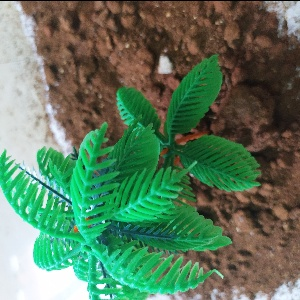plant: (1, 58, 261, 300)
